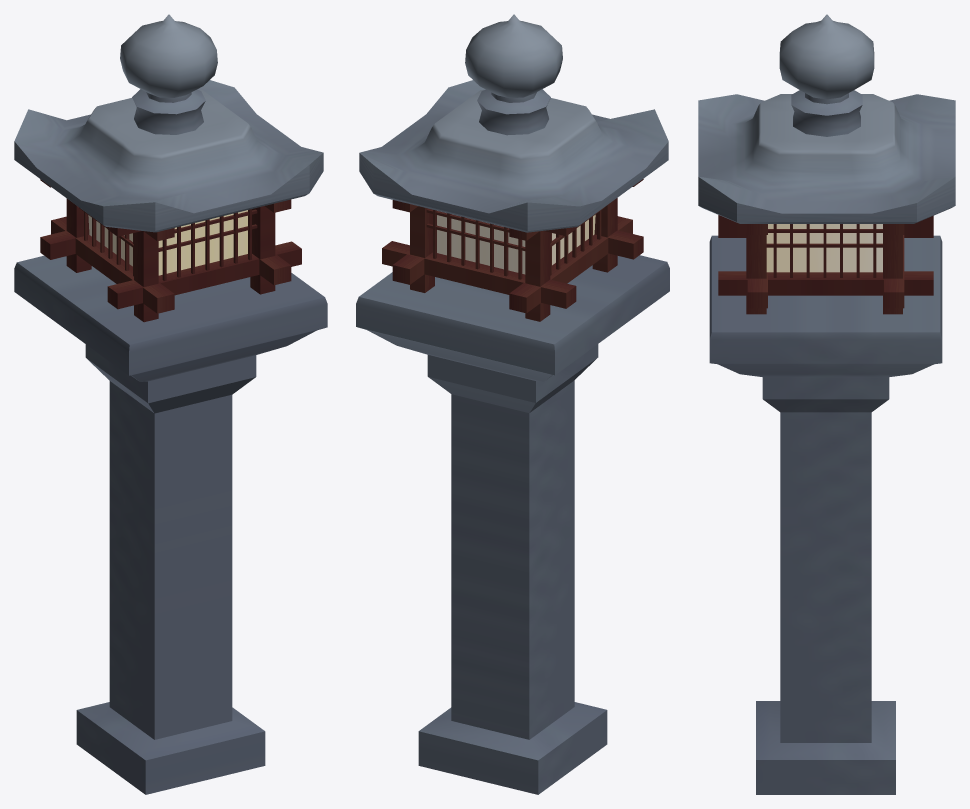
Rendered from StoneLantern.fbx.
3 views of the same model, side by side, from view 1: azimuth 30°, elevation 25°; view 2: azimuth 150°, elevation 25°; view 3: azimuth 270°, elevation 25° (orthographic).
Parts seen in each view (by area): view 1: pCube108; view 2: pCube108; view 3: pCube108.
Part boxes in pixels (x1,y1,x2,y2): pCube108: (14, 14, 327, 794); pCube108: (356, 14, 669, 794); pCube108: (698, 14, 955, 794).
Bounding box in the file's own units: 43.94 × 141 × 43.94.
